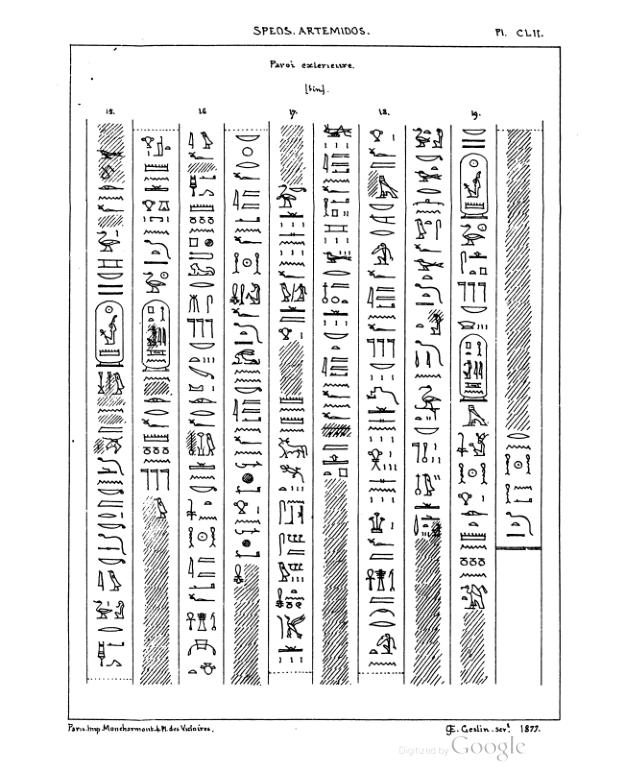circle: (458, 152, 492, 223), (139, 298, 171, 373), (93, 300, 126, 370), (458, 333, 490, 404)
